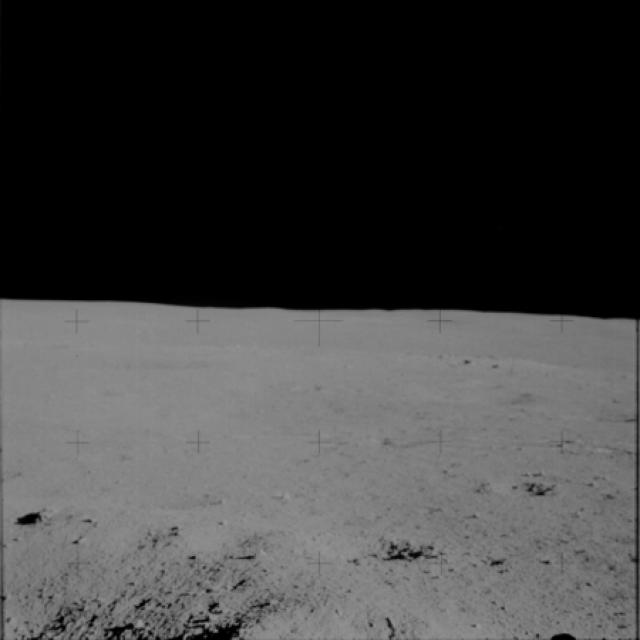crater: (297, 522, 454, 585), (95, 486, 231, 526), (338, 422, 459, 463), (461, 464, 560, 512)
rock: (16, 499, 65, 537)
